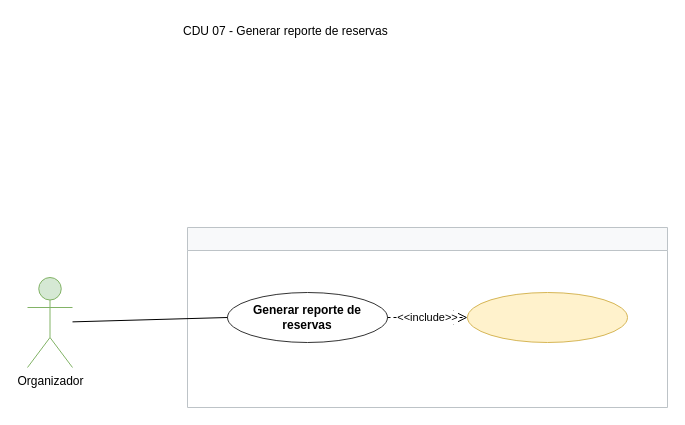
Some shapes in this 685 by 425 pixel diagram are drawn without their labels. The shapes that lost their labels are listed below. From the top down, each one's box as (x1, y1, x2, y2) in pixels, then its label:
(186, 226, 668, 408): CampusFest (Organización)
(466, 292, 628, 342): Consultar eventos
